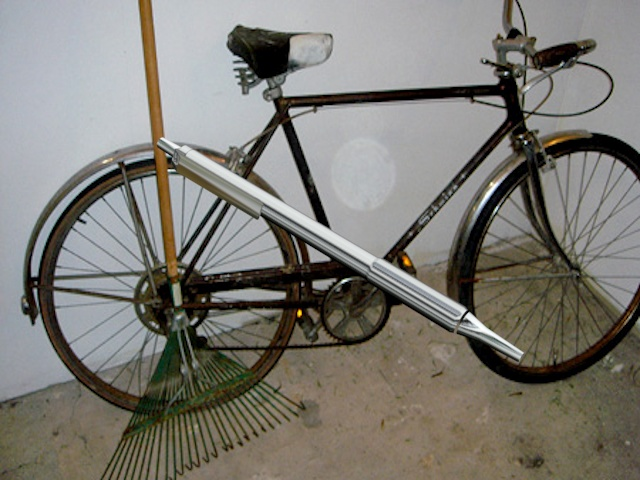pen: (145, 129, 528, 368)
